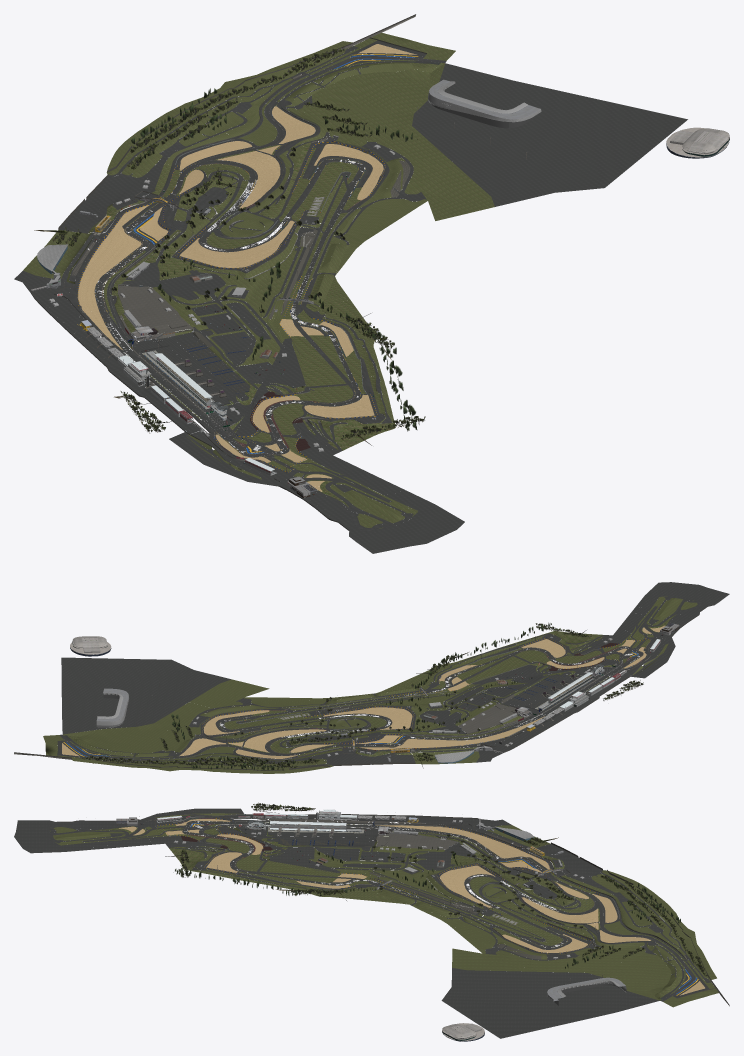
File: bugatti.glb
The picture shows the model from 3 angles, top to bottom: view 1: azimuth 30°, elevation 25°; view 2: azimuth 150°, elevation 25°; view 3: azimuth 270°, elevation 25°; orthographic projection. The views are drawn at different scales.
Visible parts, largest first — view 1: Object_82, Object_88, Object_86, Object_83, Object_93, Object_22, Object_21, Object_14, Object_99, Object_15, Object_50, Object_8 (+3 smaller); view 2: Object_82, Object_88, Object_86, Object_83, Object_93, Object_22, Object_21, Object_14, Object_99, Object_15, Object_92, Object_8 (+6 smaller); view 3: Object_82, Object_88, Object_86, Object_83, Object_93, Object_22, Object_14, Object_21, Object_99, Object_15, Object_92, Object_50 (+7 smaller).
Boxes of the visible parts, x1,y1,x2,y2 form: Object_82: (14,46,687,553); Object_88: (23,32,494,528); Object_86: (77,44,416,491); Object_83: (83,40,440,531); Object_93: (34,46,425,445); Object_22: (31,37,426,530); Object_21: (31,79,541,436); Object_14: (57,293,276,475); Object_99: (131,88,417,431); Object_15: (77,54,385,472); Object_50: (92,14,415,451); Object_8: (102,158,366,457); Object_82: (59,582,729,766); Object_88: (43,596,697,773); Object_86: (62,625,664,758); Object_83: (57,601,703,759); Object_93: (82,623,643,768); Object_22: (57,606,707,770); Object_21: (96,636,629,762); Object_14: (499,639,660,744); Object_99: (171,622,552,770); Object_15: (83,637,650,760); Object_92: (132,635,624,760); Object_8: (219,647,640,755); Object_82: (14,808,710,1038); Object_88: (50,813,718,1007); Object_86: (119,819,704,995); Object_83: (48,817,709,999); Object_93: (165,802,708,977); Object_22: (57,814,716,998); Object_14: (156,809,462,847); Object_21: (200,817,626,1001); Object_99: (175,846,680,968); Object_15: (155,818,699,978); Object_92: (197,819,658,953); Object_50: (205,816,729,1006).
Size of the model in its own units: 2076 by 68.65 by 2639.
Materials: 87 (84 with a texture image).
